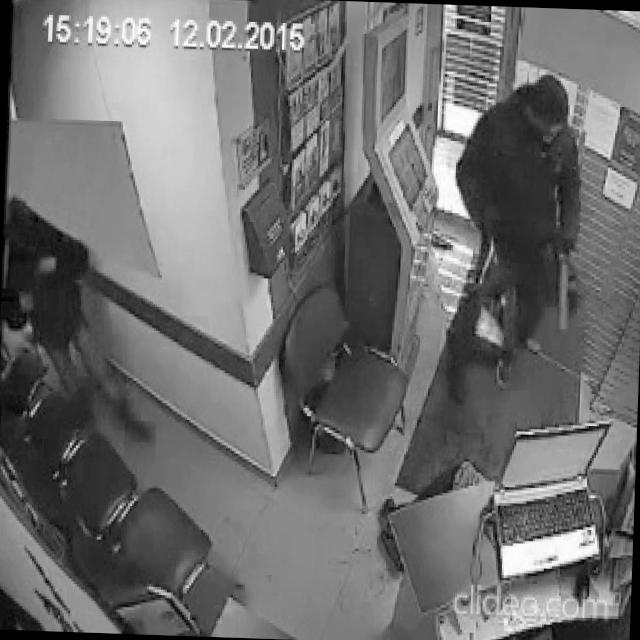gun: (554, 243, 572, 337)
person: (0, 187, 166, 447)
person with a gun: (446, 68, 588, 365)
